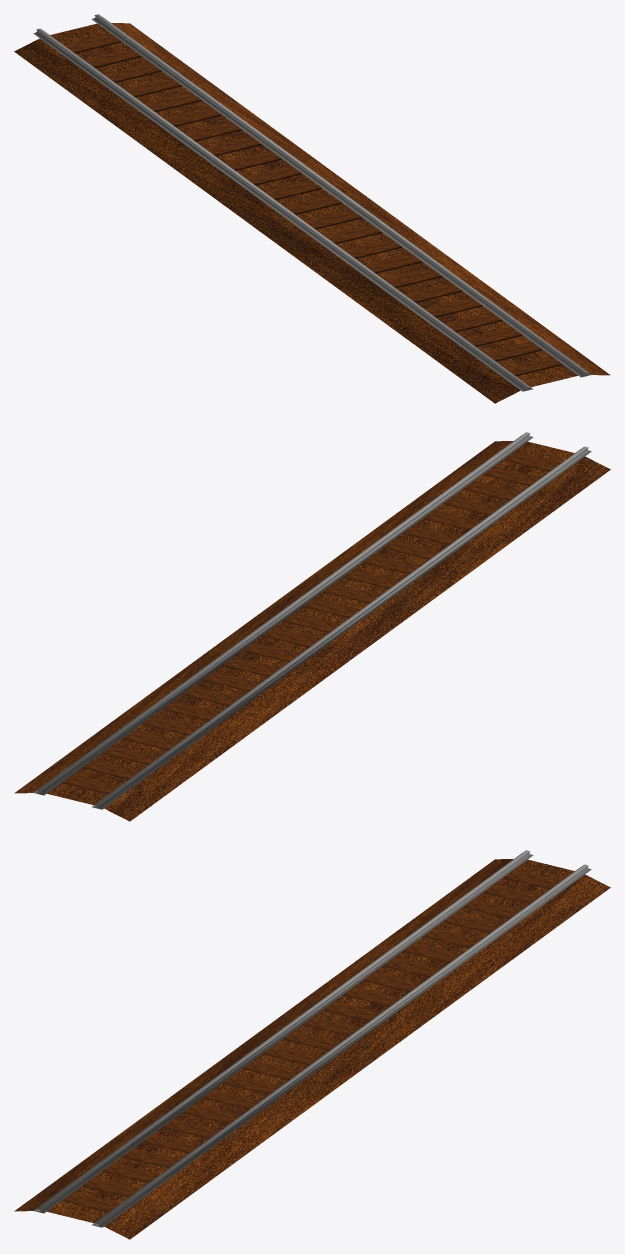
The model's file is railroad_track.obj.
The picture shows the model from 3 angles, top to bottom: view 1: azimuth 30°, elevation 25°; view 2: azimuth 150°, elevation 25°; view 3: azimuth 330°, elevation 25°; orthographic projection.
Visible parts, largest first — view 1: Plane, Vias; view 2: Plane, Vias; view 3: Plane, Vias.
Boxes of the visible parts, left/top/right/bottom form: Plane: left=14, top=23, right=610, bottom=403; Vias: left=33, top=14, right=591, bottom=391; Plane: left=14, top=441, right=610, bottom=821; Vias: left=33, top=432, right=591, bottom=809; Plane: left=14, top=859, right=610, bottom=1239; Vias: left=33, top=850, right=591, bottom=1227.
Bounding box in the file's own units: 7.91 × 0.8206 × 57.87.
2 materials, 2 textured.
